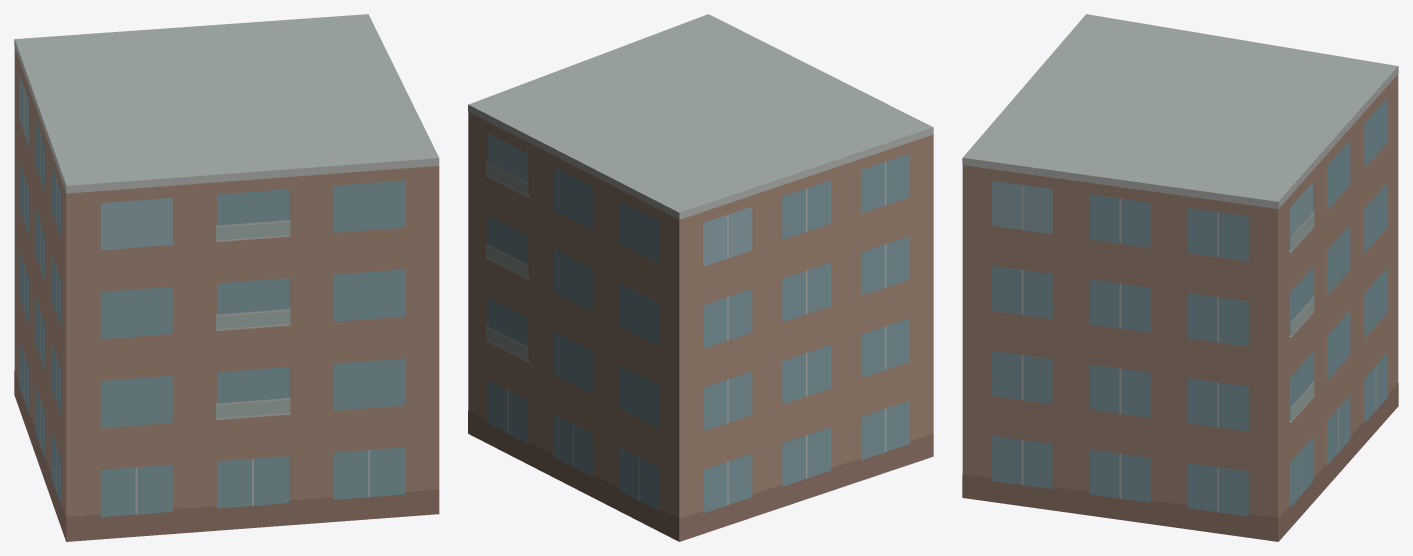
Rendered from survey-upis-32870137.glb.
3 views of the same model, side by side, from view 1: azimuth 30°, elevation 25°; view 2: azimuth 150°, elevation 25°; view 3: azimuth 270°, elevation 25° (orthographic). The views are drawn at different scales.
Parts seen in each view (by area): view 1: survey-upis-32870137.tmp; view 2: survey-upis-32870137.tmp; view 3: survey-upis-32870137.tmp.
Part boxes in pixels (bbox=[...]): survey-upis-32870137.tmp: bbox=[14, 14, 439, 541]; survey-upis-32870137.tmp: bbox=[468, 14, 933, 541]; survey-upis-32870137.tmp: bbox=[962, 14, 1398, 541].
Size of the model in its own units: 13.39 by 11.3 by 13.14.
